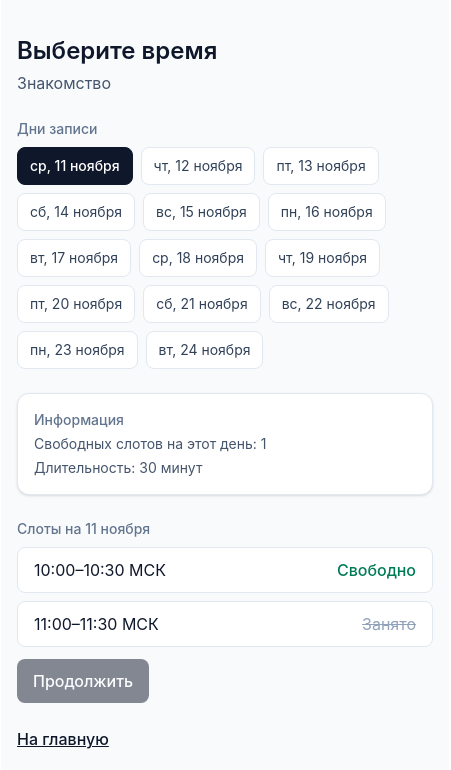
Test: Страница записи › ошибка slot_taken показывает сообщение сервера
Click the button "10:00–10:30 МСК Свободно" at (100, 570), box [17,547,433,593]
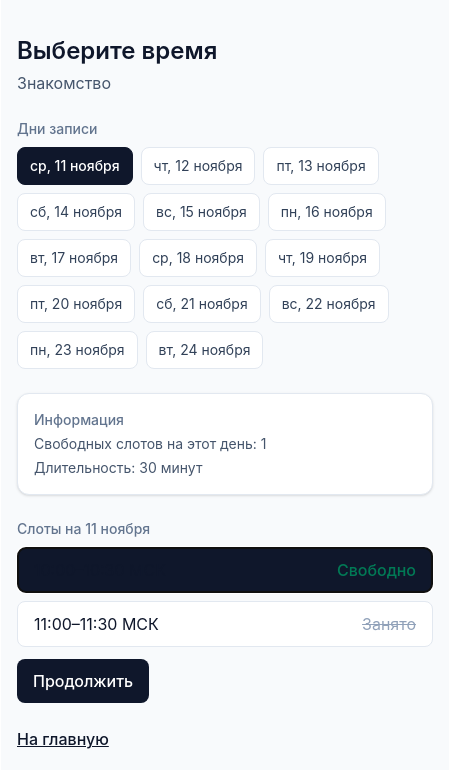
Click the button "Продолжить" at (83, 681), box [17,659,149,703]
(page scrolled)
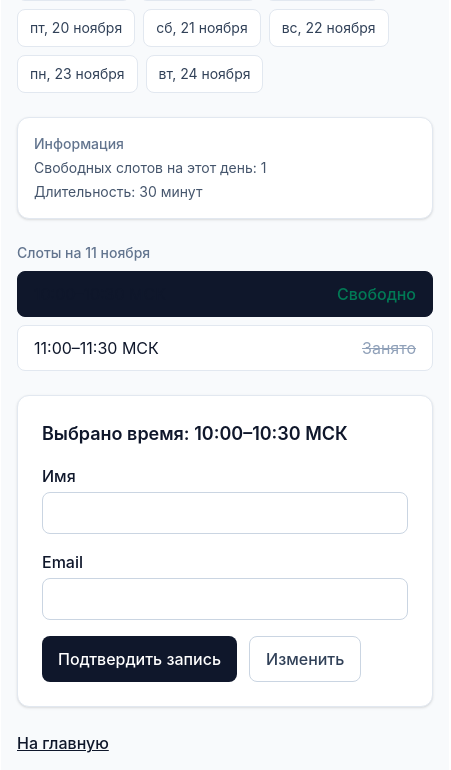
Type "Анна" into the field labelled "Имя" at (225, 513), box [42,492,408,534]
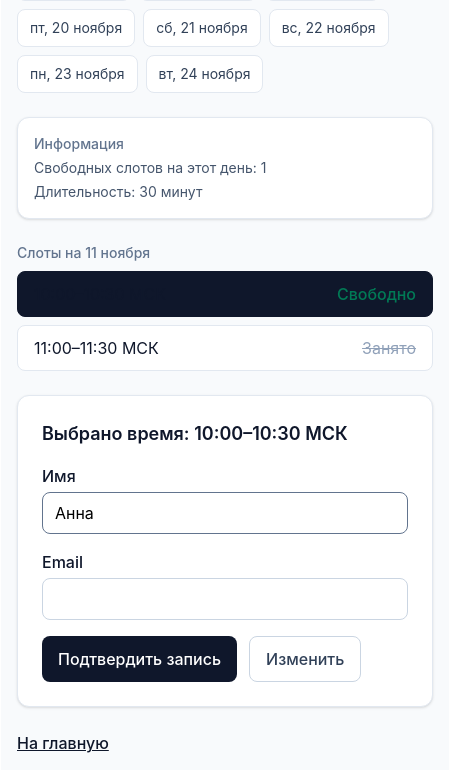
Type "anna@example.com" into the field labelled "Email" at (225, 599), box [42,578,408,620]
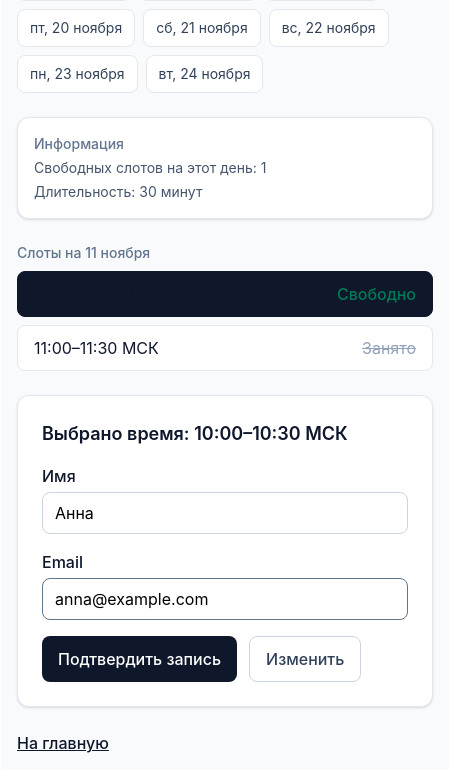
Click the button "Подтвердить запись" at (140, 659), box [42,636,237,682]
(page scrolled)
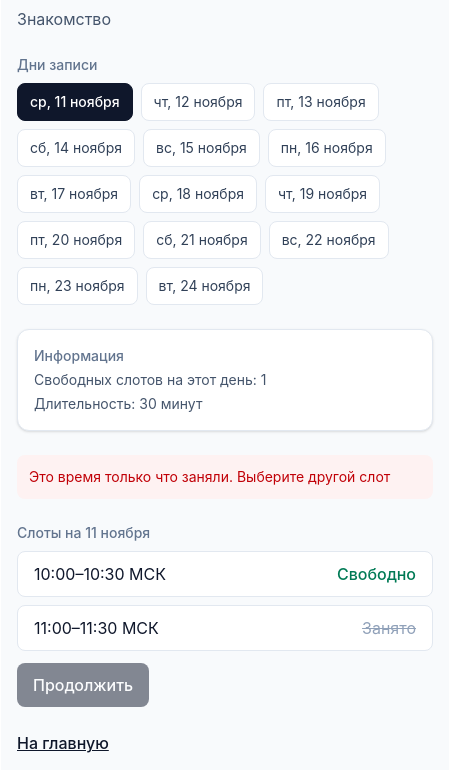
Expected: the message reads "Это время только что заняли. Выберите другой слот", [29,468,390,485]
